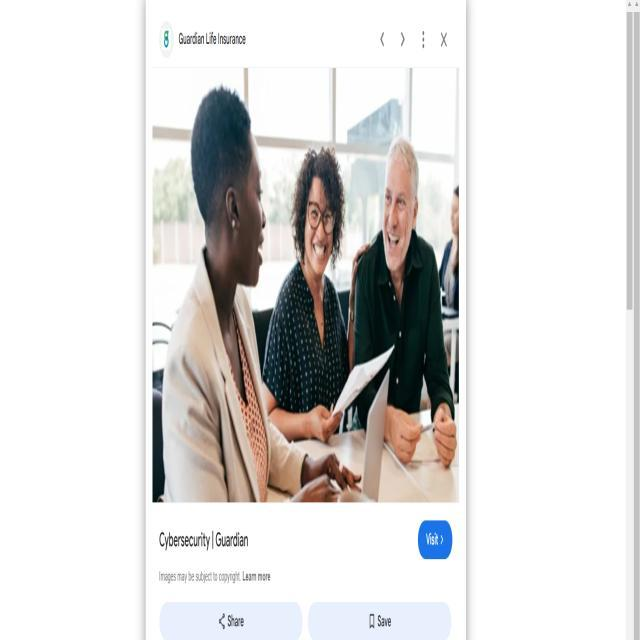face_no_mask: (224, 114, 268, 284), (382, 158, 420, 274), (300, 167, 334, 274)
